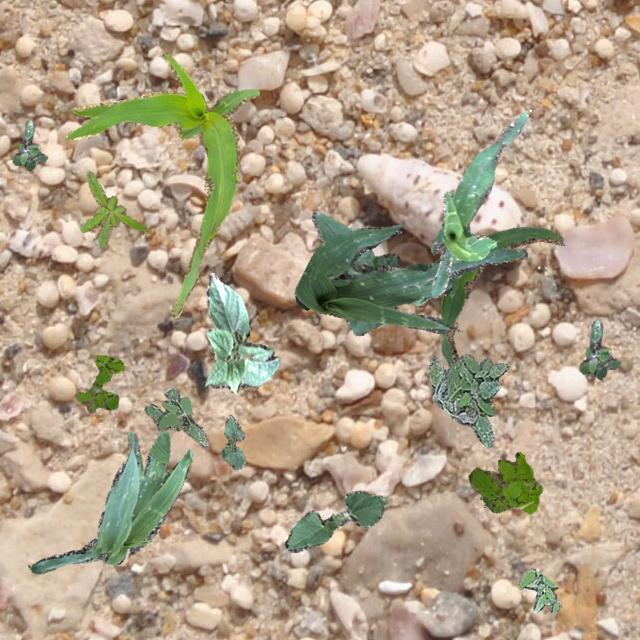crop: (64, 52, 258, 318), (294, 224, 526, 332), (29, 430, 192, 572), (428, 226, 562, 366), (429, 111, 526, 296), (310, 210, 398, 334), (203, 272, 280, 392), (284, 489, 386, 552), (402, 256, 466, 304), (220, 414, 244, 468)
weed: (428, 354, 508, 446), (80, 170, 146, 248), (468, 450, 542, 512), (144, 386, 206, 446), (75, 354, 124, 412), (578, 318, 620, 378), (518, 568, 560, 612), (12, 119, 46, 170)
